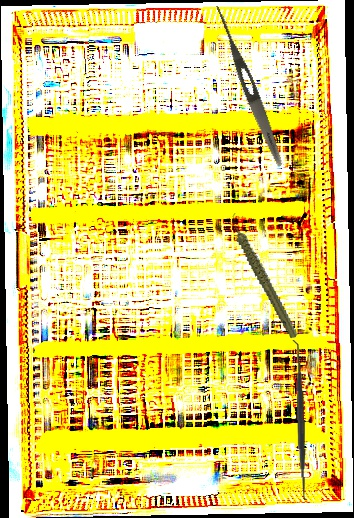Dressing Forceps: (208, 1, 288, 169)
Handpiece: (228, 204, 300, 347)
Spatula Surgical: (288, 339, 313, 501)
